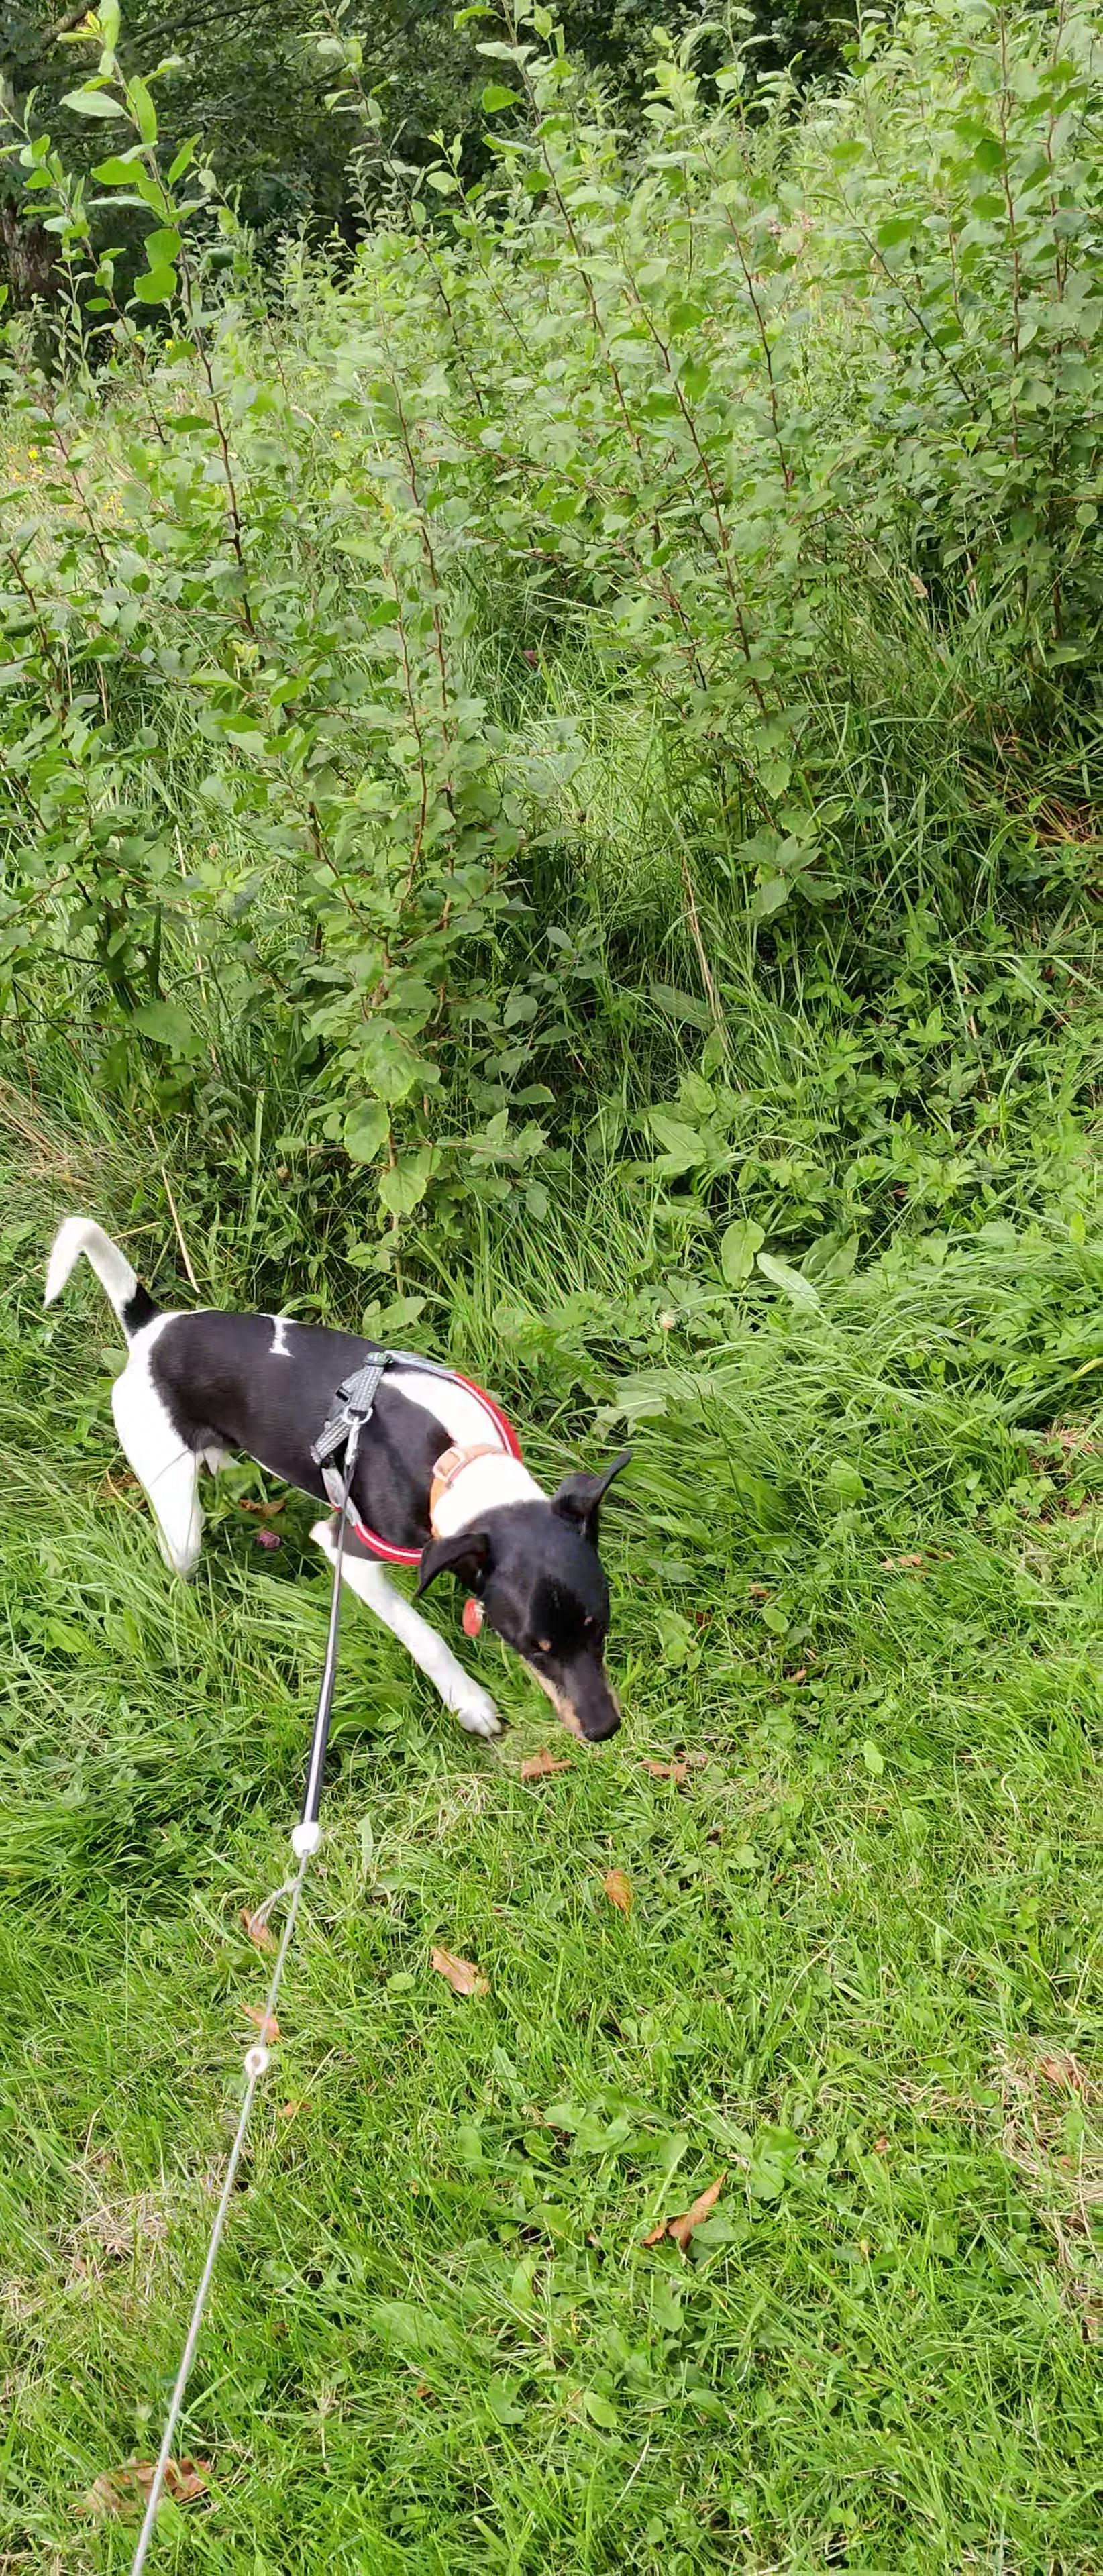Dog: (30, 1193, 656, 1763)
